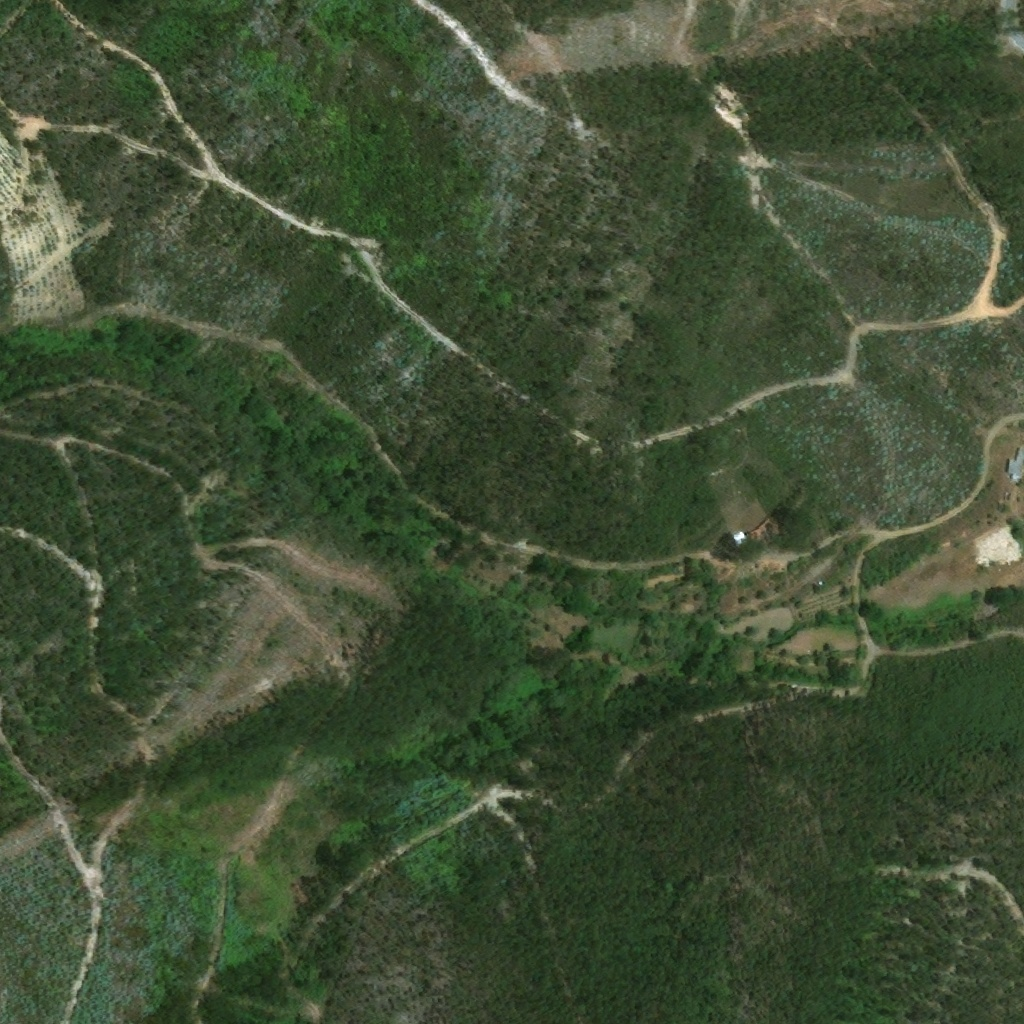0 no-damage: (732, 515, 779, 545)
4 un-classified: (1007, 448, 1023, 480)
